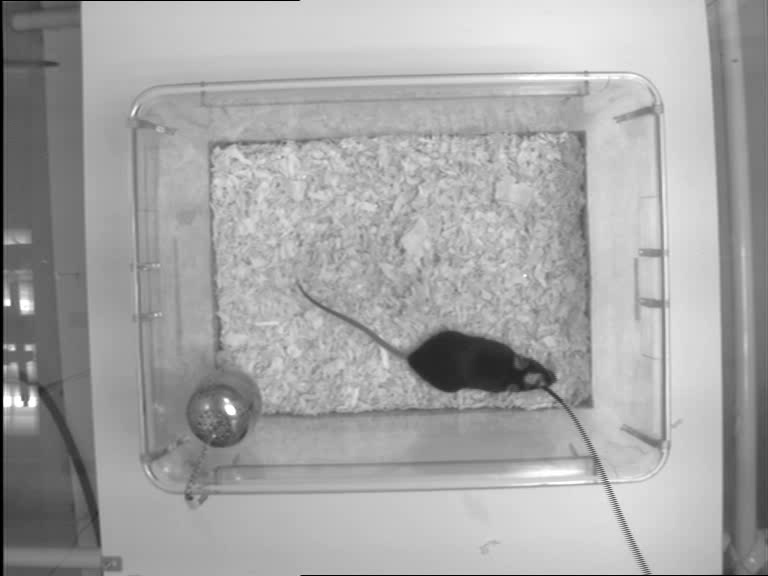mice: (294, 283, 557, 393)
